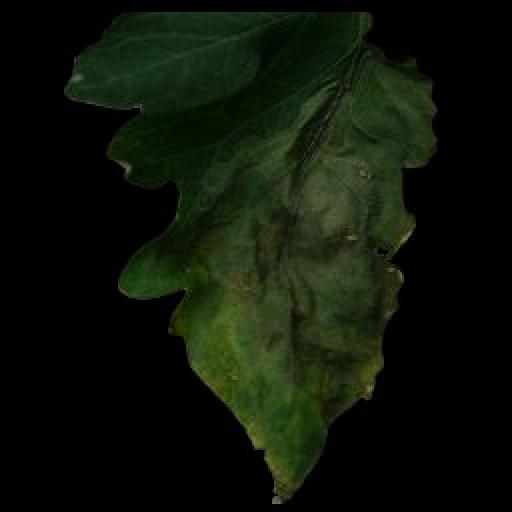disease_tomato: (67, 10, 441, 506)
